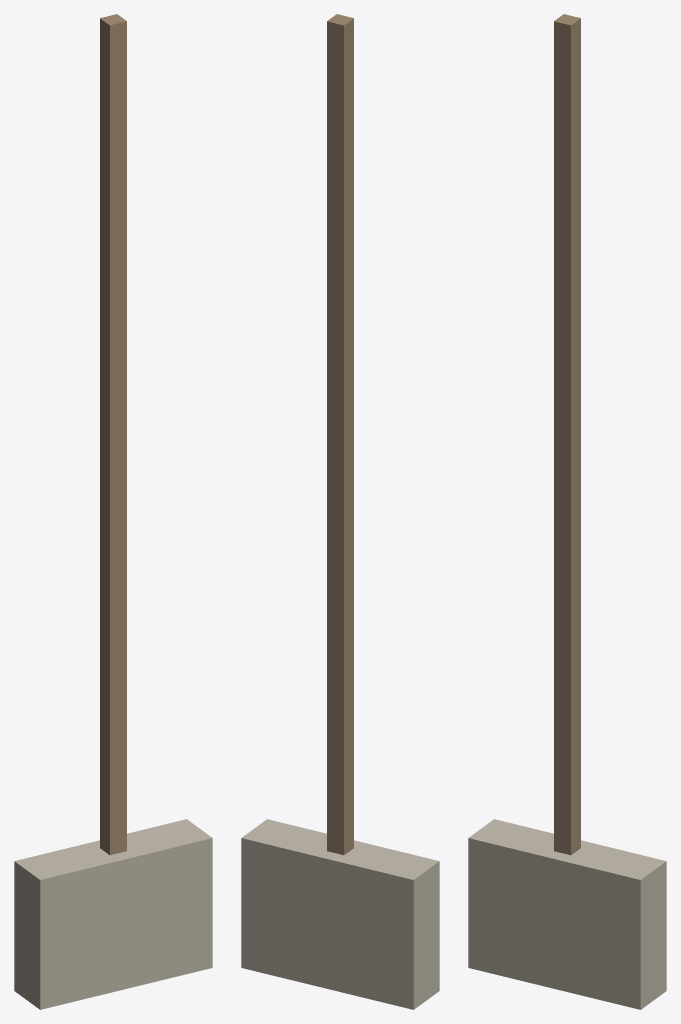
The model's file is broom.glb.
The picture shows the model from 3 angles, left to right: view 1: azimuth 30°, elevation 25°; view 2: azimuth 150°, elevation 25°; view 3: azimuth 330°, elevation 25°; orthographic projection.
Parts seen in each view (by area): view 1: body; view 2: body; view 3: body.
Boxes of the visible parts, x1,y1,x2,y2 form: body: [14, 14, 212, 1009]; body: [241, 14, 439, 1009]; body: [468, 14, 666, 1009].
Bounding box in the file's own units: 0.25 × 1.33 × 0.065.
